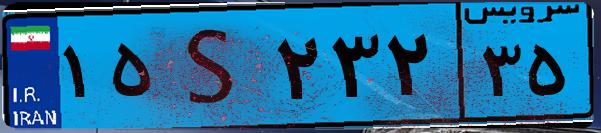1: (57, 26, 110, 100)
2: (270, 28, 330, 110), (385, 28, 445, 110)
3: (330, 28, 385, 110), (475, 38, 525, 113)
5: (525, 38, 570, 115), (110, 28, 158, 98)
S: (158, 12, 270, 120)
